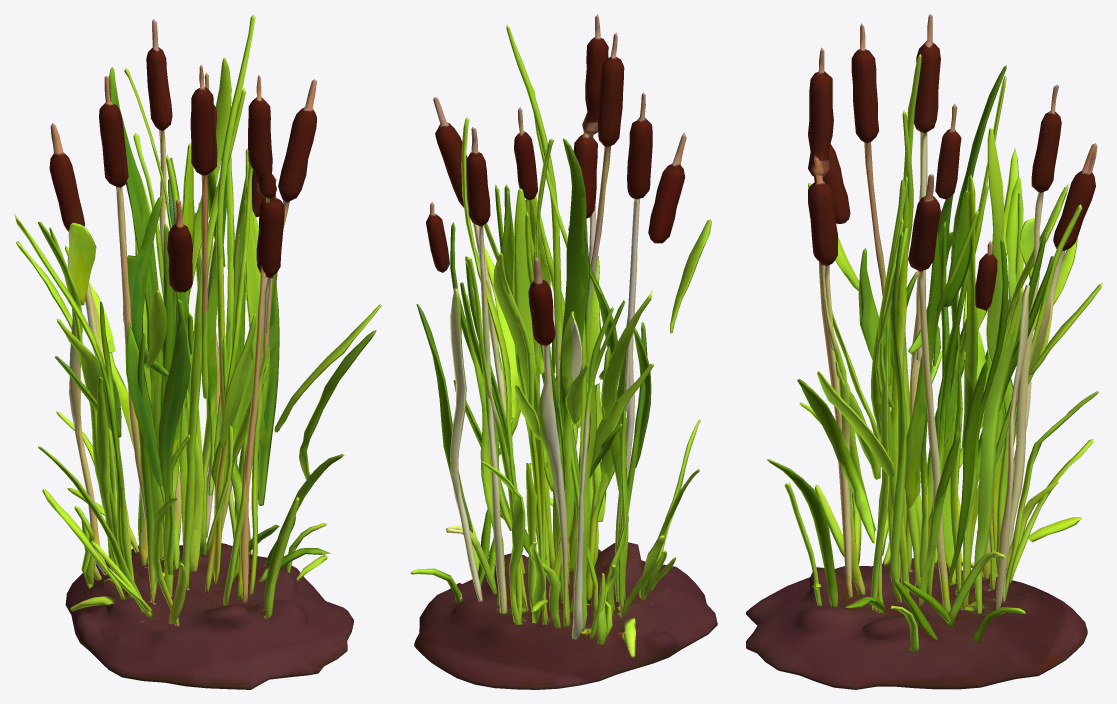
The model's file is bog_reed_cluster.glb.
The picture shows the model from 3 angles, left to right: view 1: azimuth 30°, elevation 25°; view 2: azimuth 150°, elevation 25°; view 3: azimuth 270°, elevation 25°; orthographic projection. The views are drawn at different scales.
Size of the model in its own units: 0.9511 by 1.91 by 1.02.
Materials: 1 (1 with a texture image).
